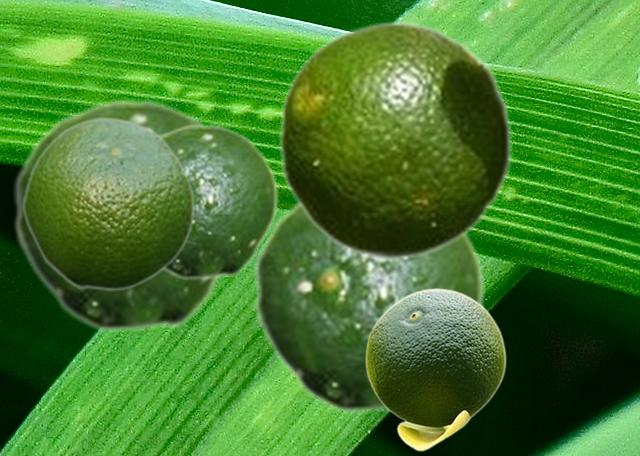calamansi: (277, 20, 513, 259), (13, 98, 226, 333), (253, 200, 485, 414), (21, 115, 194, 290), (365, 288, 505, 450), (157, 123, 278, 280)
